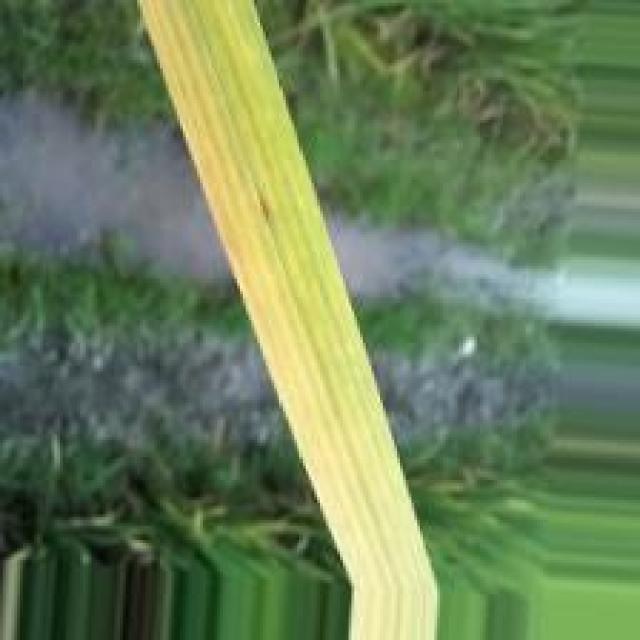Brown_Spot: (257, 190, 277, 227)
